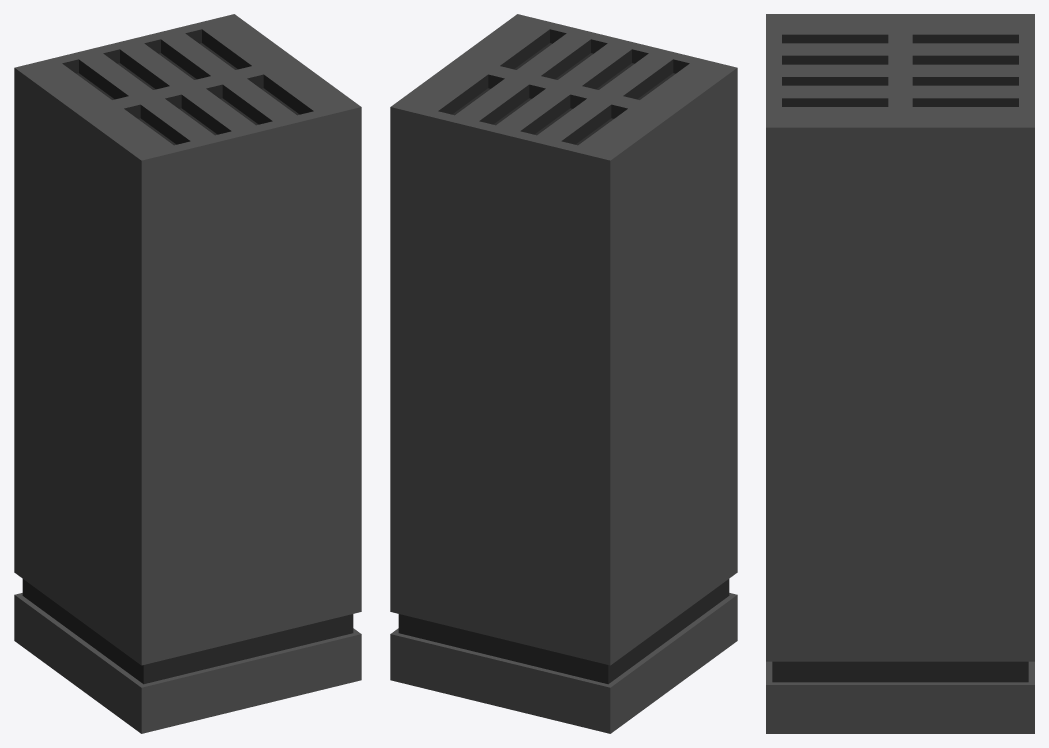
Rendered from Stand_02.fbx.
The picture shows the model from 3 angles, left to right: view 1: azimuth 30°, elevation 25°; view 2: azimuth 150°, elevation 25°; view 3: azimuth 270°, elevation 25°; orthographic projection. The views are drawn at different scales.
Parts seen in each view (by area): view 1: Stand_02; view 2: Stand_02; view 3: Stand_02.
Part boxes in pixels (x1,y1,x2,y2): Stand_02: [14, 14, 361, 733]; Stand_02: [390, 14, 737, 733]; Stand_02: [766, 14, 1034, 733].
Size of the model in its own units: 10.04 by 25 by 10.04.
